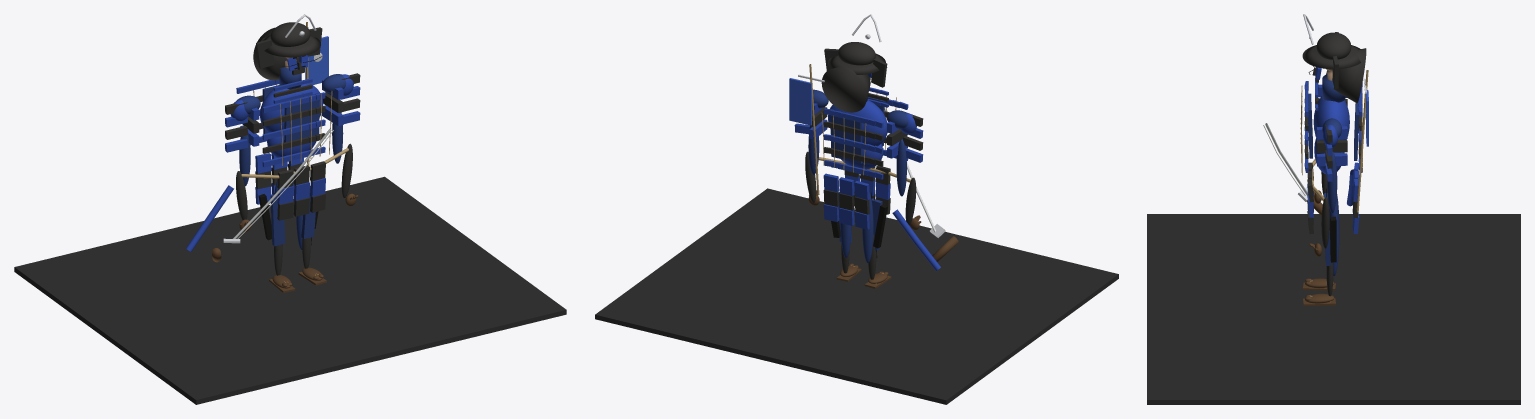
File: samurai_character.glb
3 renders of one model, left to right at view 1: azimuth 30°, elevation 25°; view 2: azimuth 150°, elevation 25°; view 3: azimuth 270°, elevation 25°, orthographic. The views are drawn at different scales.
Visible parts, largest first — view 1: matte charcoal inspection plinth, front under-kimono chest panel, upper do cuirass fitted shell, segmented kabuto helmet bowl, wide kabuto brim, cloth sashimono banner panel, layered rear shikoro neck guard, lacquered saya scabbard at left hip, left hanging hakama outer cloth; view 2: matte charcoal inspection plinth, layered rear shikoro neck guard, cloth sashimono banner panel, upper do cuirass fitted shell, rear under-kimono back panel, segmented kabuto helmet bowl, lacquered saya scabbard at left hip, left armored upper arm, wide kabuto brim, left hakama trouser leg; view 3: matte charcoal inspection plinth, layered rear shikoro neck guard, upper do cuirass fitted shell, segmented kabuto helmet bowl, wide kabuto brim, right armored upper arm, neck guard collar, bamboo sashimono back pole, right kote forearm guard.
Boxes of the visible parts, x1=… form: matte charcoal inspection plinth: x1=14, y1=176, x2=566, y2=404; front under-kimono chest panel: x1=284, y1=93, x2=319, y2=148; upper do cuirass fitted shell: x1=259, y1=83, x2=323, y2=132; segmented kabuto helmet bowl: x1=270, y1=22, x2=310, y2=46; wide kabuto brim: x1=261, y1=35, x2=320, y2=57; cloth sashimono banner panel: x1=305, y1=36, x2=328, y2=84; layered rear shikoro neck guard: x1=253, y1=27, x2=299, y2=80; lacquered saya scabbard at left hip: x1=186, y1=185, x2=233, y2=251; left hanging hakama outer cloth: x1=270, y1=194, x2=285, y2=246; matte charcoal inspection plinth: x1=595, y1=188, x2=1118, y2=404; layered rear shikoro neck guard: x1=821, y1=67, x2=870, y2=112; cloth sashimono banner panel: x1=789, y1=78, x2=811, y2=125; upper do cuirass fitted shell: x1=828, y1=100, x2=887, y2=146; rear under-kimono back panel: x1=830, y1=115, x2=862, y2=163; segmented kabuto helmet bowl: x1=838, y1=42, x2=875, y2=65; lacquered saya scabbard at left hip: x1=892, y1=209, x2=940, y2=270; left armored upper arm: x1=896, y1=139, x2=906, y2=196; wide kabuto brim: x1=828, y1=53, x2=885, y2=74; left hakama trouser leg: x1=862, y1=193, x2=873, y2=263; matte charcoal inspection plinth: x1=1147, y1=214, x2=1520, y2=404; layered rear shikoro neck guard: x1=1333, y1=48, x2=1366, y2=103; upper do cuirass fitted shell: x1=1313, y1=96, x2=1349, y2=140; segmented kabuto helmet bowl: x1=1316, y1=32, x2=1351, y2=59; wide kabuto brim: x1=1302, y1=45, x2=1360, y2=69; right armored upper arm: x1=1327, y1=152, x2=1337, y2=212; neck guard collar: x1=1322, y1=74, x2=1345, y2=102; bamboo sashimono back pole: x1=1356, y1=70, x2=1368, y2=212; right kote forearm guard: x1=1321, y1=197, x2=1329, y2=248.
Bounding box in the file's own units: 4 × 2.99 × 3.4.
